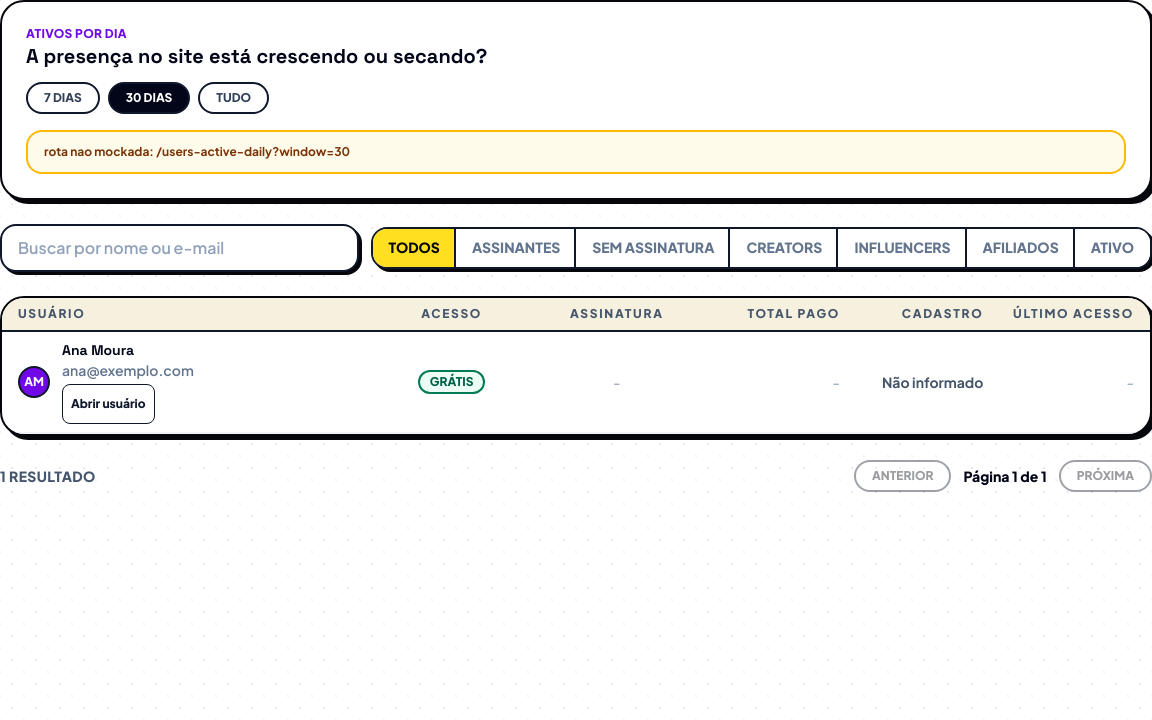
Test: UsersDashboard: colunas e selos › cada linha oferece botão explícito que abre o modal
Check: the text "Ana Moura" is shown, box [62, 341, 134, 359]
Click the button "Abrir usuário": (108, 404) [62, 384, 154, 424]
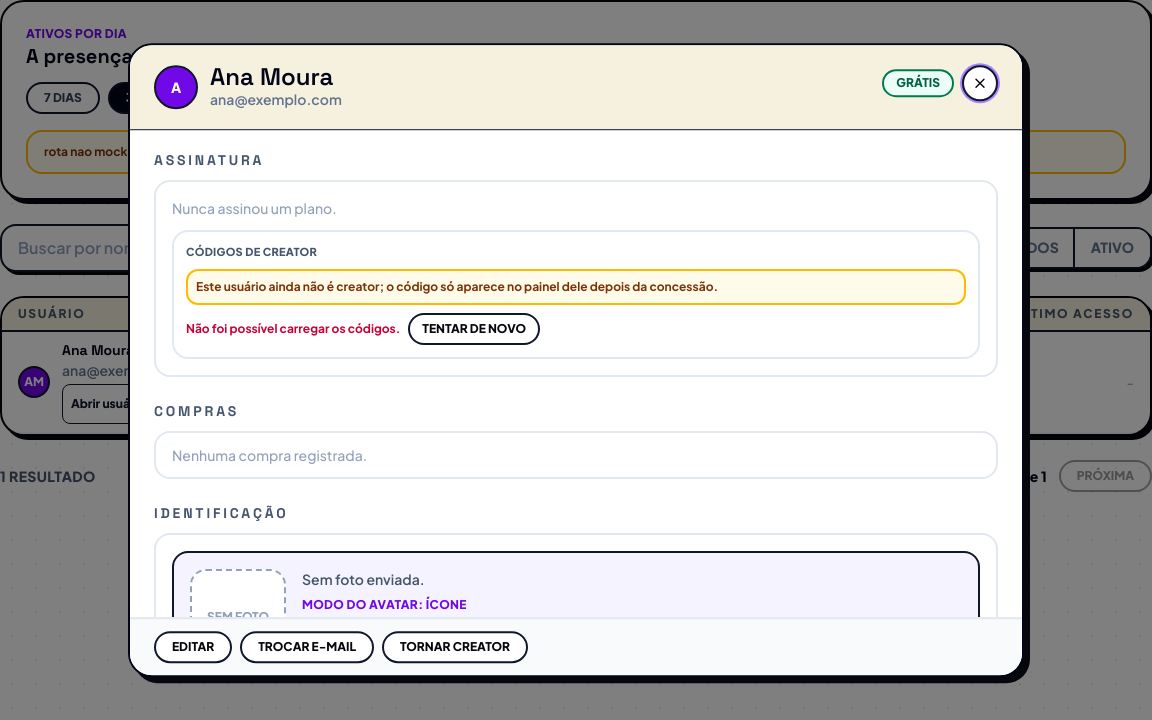
Check: the dialog is shown
